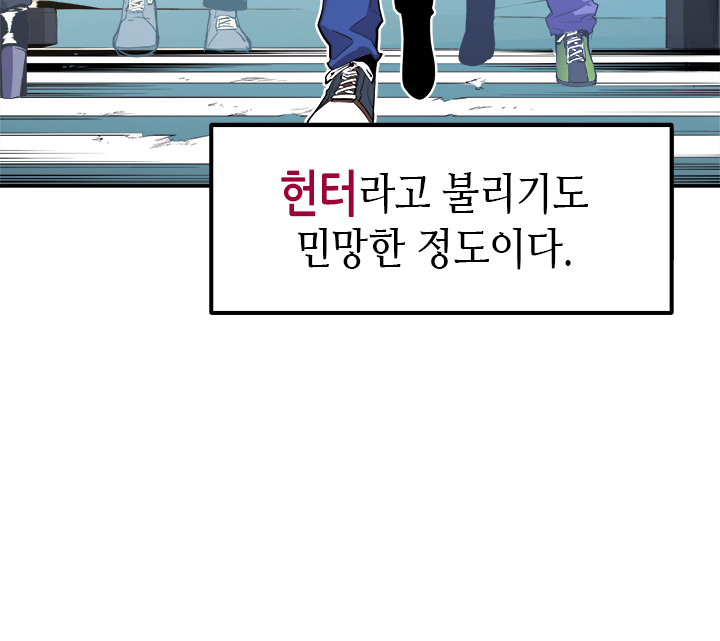dialog box: (188, 99, 700, 346)
text: (258, 144, 608, 294)
